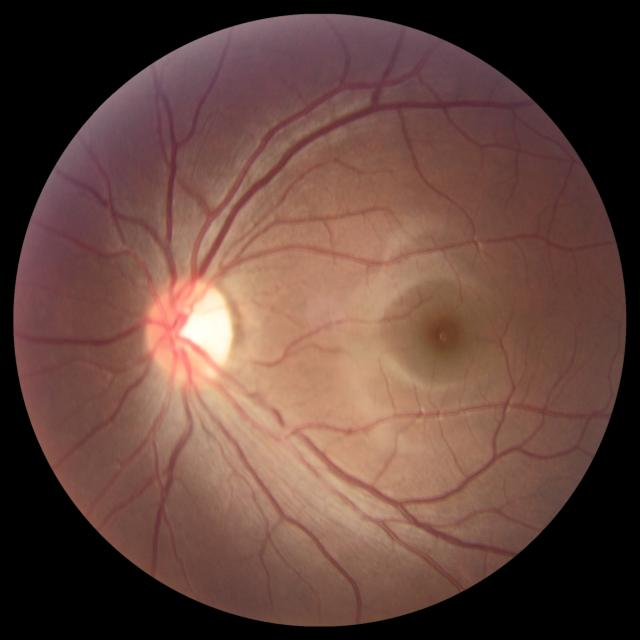OC: (175, 298, 229, 353)
OD: (144, 277, 236, 387)
